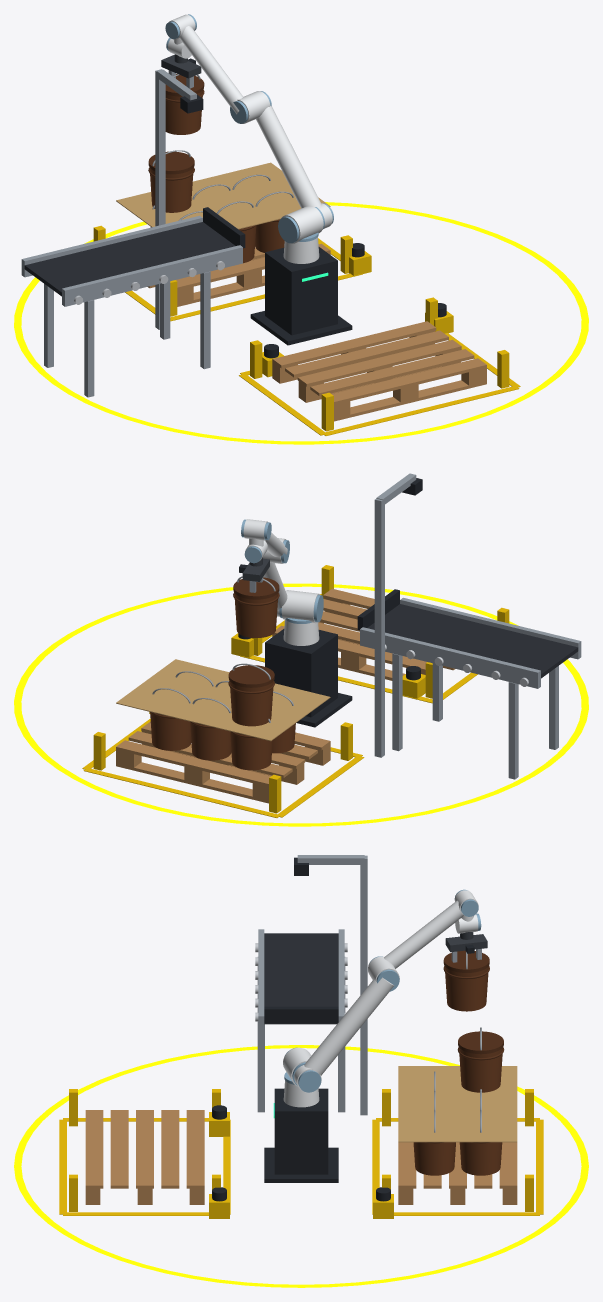
The model's file is celula-ur20.glb.
The picture shows the model from 3 angles, top to bottom: view 1: azimuth 30°, elevation 25°; view 2: azimuth 150°, elevation 25°; view 3: azimuth 270°, elevation 25°; orthographic projection.
Size of the model in its own units: 3.93 by 1.91 by 3.86.
